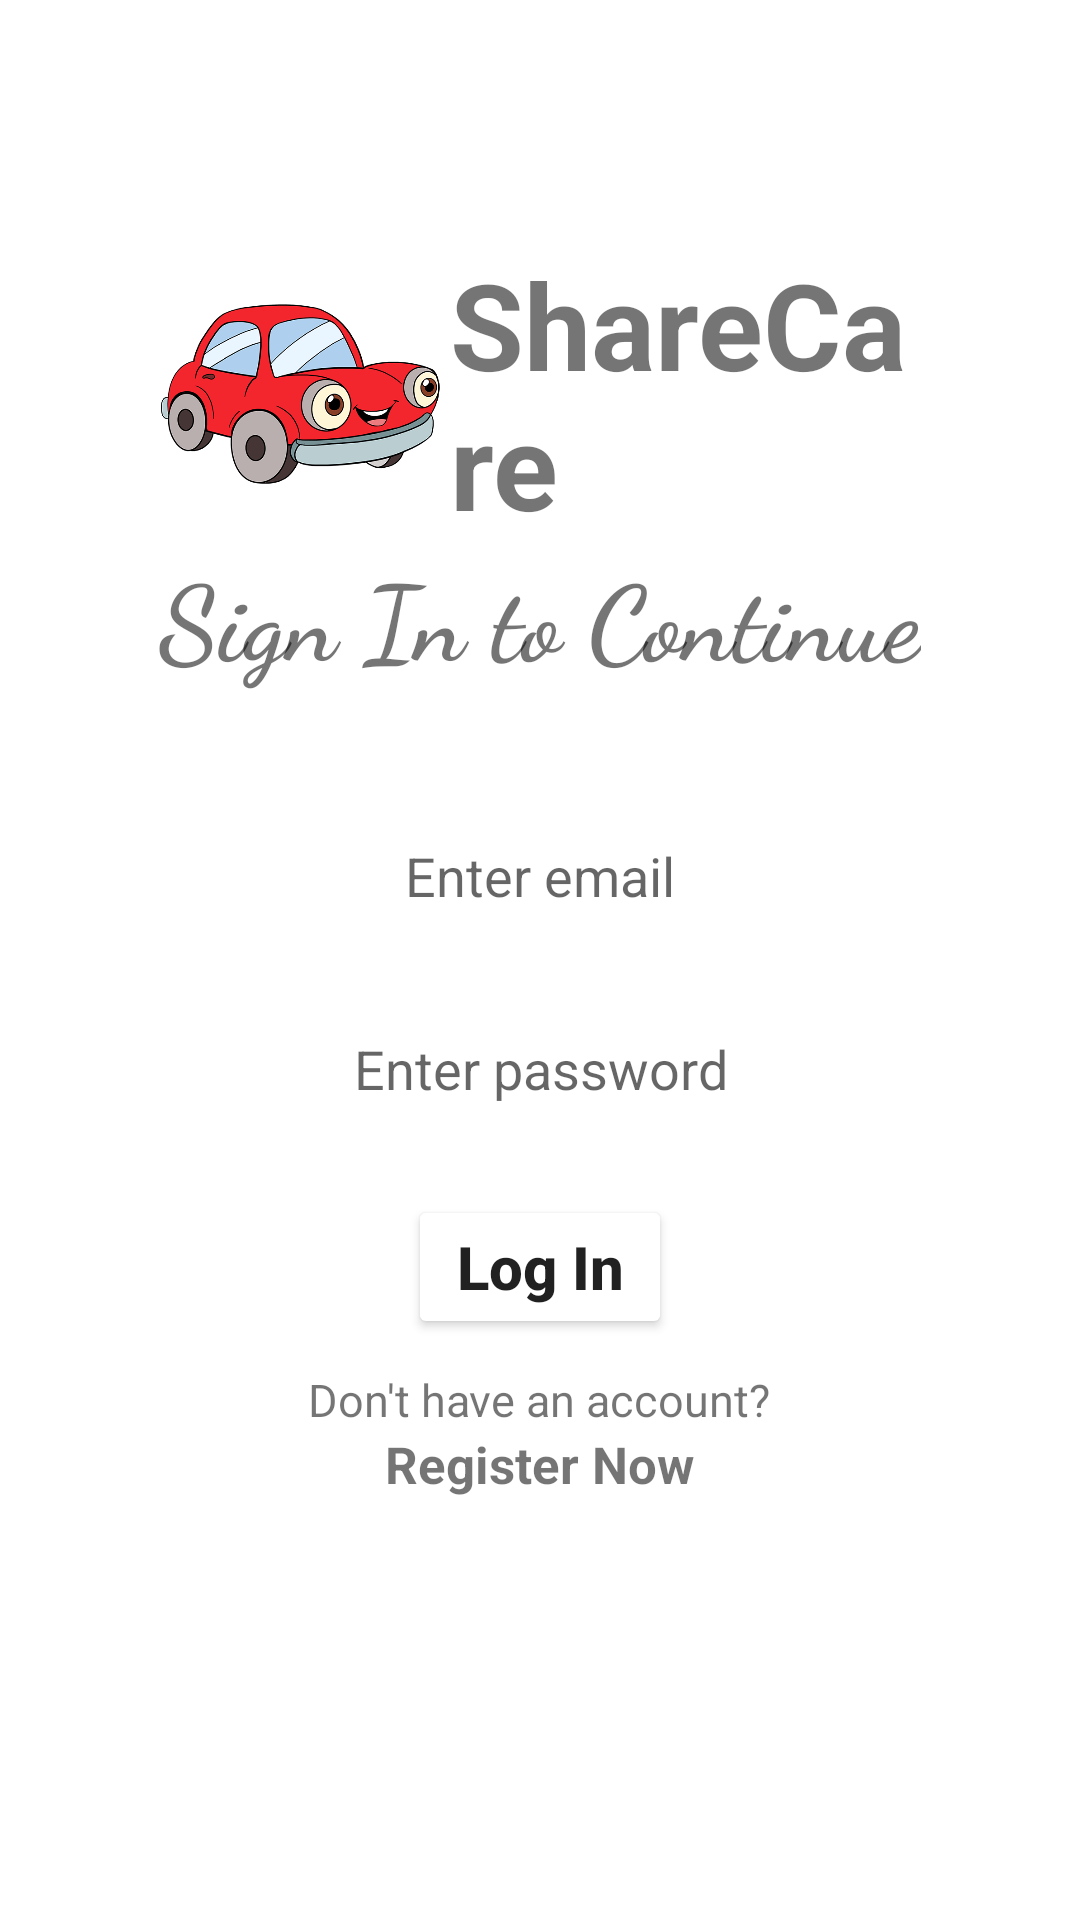

Icons on this 1080 x 1920 Android screen, each with its box as Rect(x1, y1, x2, y2):
carr: Rect(161, 304, 440, 484)
